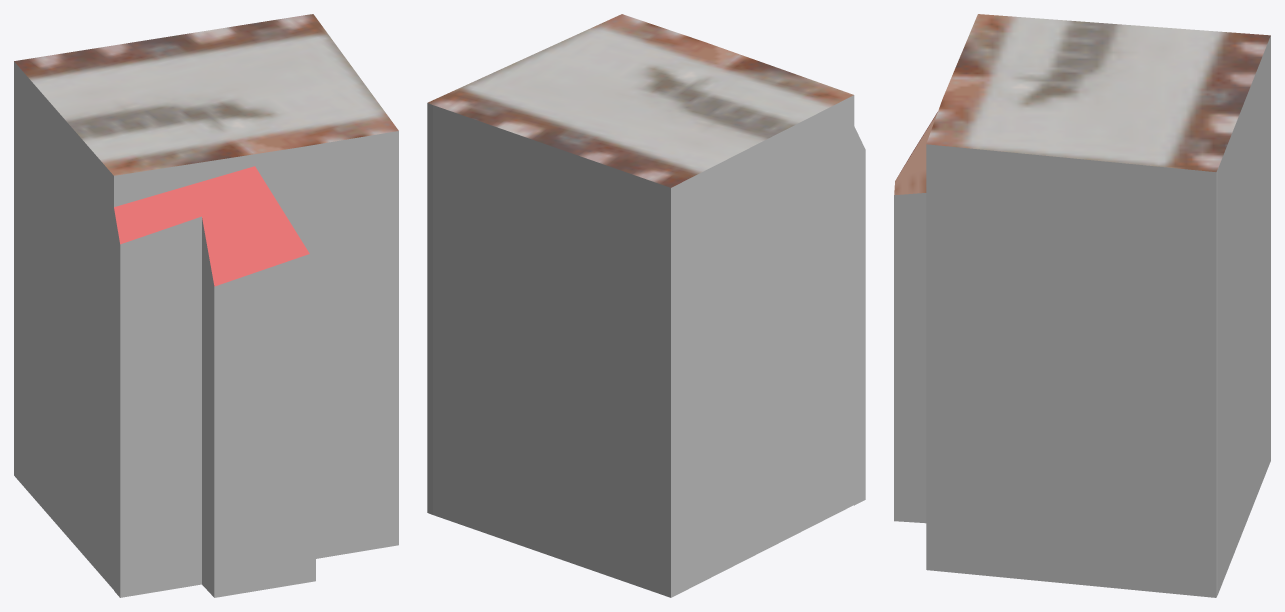
The model's file is DEBW_0010007Tx4q.gltf.
3 views of the same model, side by side, from view 1: azimuth 30°, elevation 25°; view 2: azimuth 150°, elevation 25°; view 3: azimuth 270°, elevation 25° (orthographic). The views are drawn at different scales.
Parts seen in each view (by area): view 1: Z_UP; view 2: Z_UP; view 3: Z_UP.
Boxes of the visible parts, x1,y1,x2,y2 form: Z_UP: (14, 14, 398, 597); Z_UP: (427, 14, 865, 597); Z_UP: (894, 14, 1270, 597).
Size of the model in its own units: 13.78 by 17.17 by 13.75.
3 materials, 1 textured.
